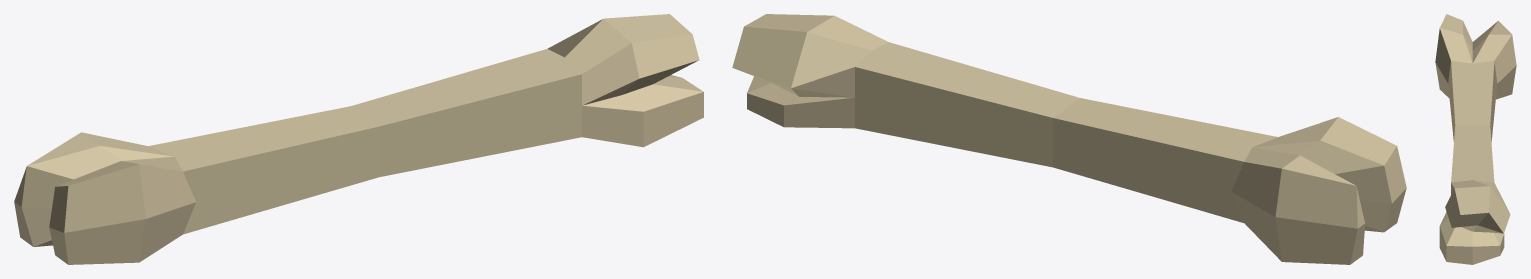
The model's file is BoneSingular.fbx.
3 views of the same model, side by side, from view 1: azimuth 30°, elevation 25°; view 2: azimuth 150°, elevation 25°; view 3: azimuth 270°, elevation 25° (orthographic). The views are drawn at different scales.
Parts seen in each view (by area): view 1: BoneBasic; view 2: BoneBasic; view 3: BoneBasic.
Part boxes in pixels (box(x1,y1,x2,y2)): BoneBasic: box(14, 14, 703, 264); BoneBasic: box(732, 14, 1406, 264); BoneBasic: box(1435, 14, 1516, 264).
Size of the model in its own units: 117 by 19.52 by 20.5.
